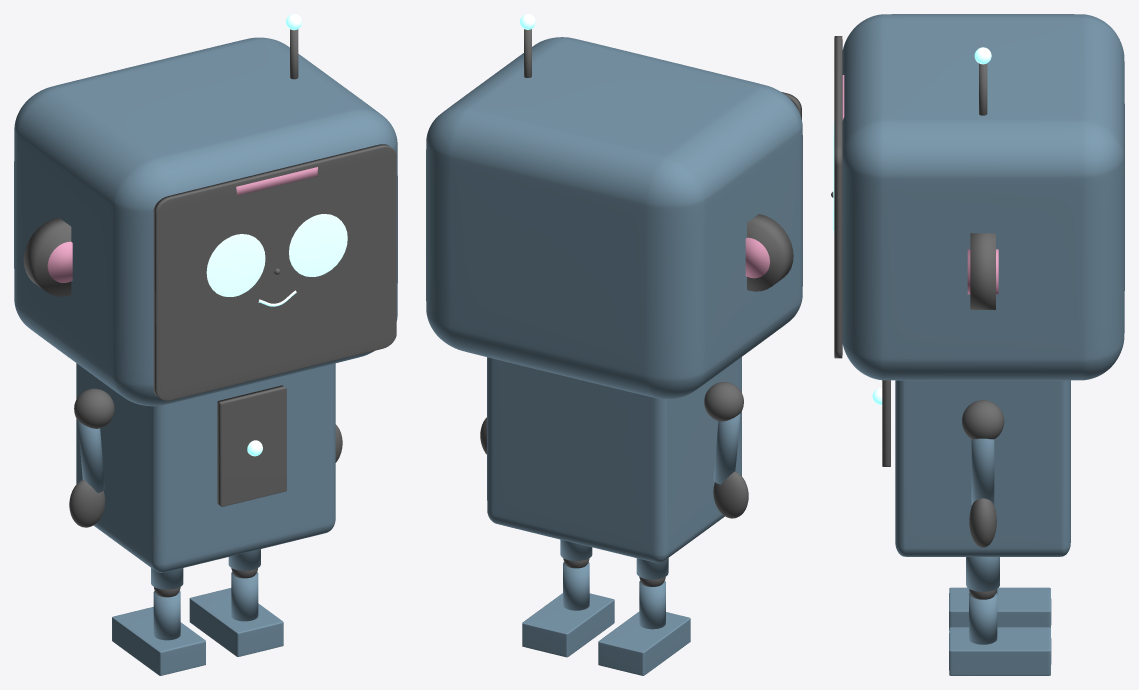
Rendered from ran.glb.
The picture shows the model from 3 angles, left to right: view 1: azimuth 30°, elevation 25°; view 2: azimuth 150°, elevation 25°; view 3: azimuth 270°, elevation 25°; orthographic projection. The views are drawn at different scales.
Visible parts, largest first — view 1: Cube, Cube.001, Cube.004, Cube.005, Cube.006, Cube.007, Sphere.001, Sphere, Cylinder.006, Forearm_-1, Shoulder_-1, Hand_-1 (+5 smaller); view 2: Cube, Cube.004, Cube.006, Cube.007, Cylinder.006, Forearm_-1, Shoulder_-1, Hand_-1, Cylinder.001, Cylinder.003, Cylinder.007, Cylinder.002; view 3: Cube, Cube.004, Cube.006, Cube.007, Cube.001, Cylinder.004, Forearm_1, Shoulder_1, Cylinder.001, Cylinder, Hand_1, Cube.005 (+1 smaller).
Boxes of the visible parts, x1,y1,x2,y2 form: Cube: [14, 37, 397, 406]; Cube.001: [153, 144, 396, 400]; Cube.004: [76, 363, 335, 572]; Cube.005: [217, 385, 286, 506]; Cube.006: [189, 588, 283, 656]; Cube.007: [112, 607, 205, 675]; Sphere.001: [289, 214, 347, 276]; Sphere: [206, 234, 265, 296]; Cylinder.006: [23, 217, 71, 296]; Forearm_-1: [78, 421, 105, 492]; Shoulder_-1: [74, 388, 114, 428]; Hand_-1: [69, 479, 105, 527]; Cube: [426, 37, 802, 399]; Cube.004: [487, 357, 741, 562]; Cube.006: [522, 593, 614, 657]; Cube.007: [598, 612, 690, 675]; Cylinder.006: [747, 214, 793, 291]; Forearm_-1: [713, 414, 740, 484]; Shoulder_-1: [704, 382, 743, 421]; Hand_-1: [713, 471, 748, 518]; Cylinder.001: [563, 562, 589, 610]; Cylinder.003: [639, 580, 665, 629]; Cylinder.007: [745, 237, 769, 278]; Cylinder.002: [636, 558, 668, 579]; Cube: [842, 14, 1124, 380]; Cube.004: [895, 380, 1070, 556]; Cube.006: [949, 627, 1051, 675]; Cube.007: [949, 587, 1051, 630]; Cube.001: [834, 36, 842, 358]; Cylinder.004: [970, 233, 995, 309]; Forearm_1: [971, 438, 994, 505]; Shoulder_1: [962, 400, 1004, 439]; Cylinder.001: [969, 593, 997, 644]; Cylinder: [966, 557, 999, 591]; Hand_1: [969, 498, 996, 547]; Cube.005: [882, 380, 890, 466].
Bounding box in the file's own units: 3 × 4.99 × 2.07.
